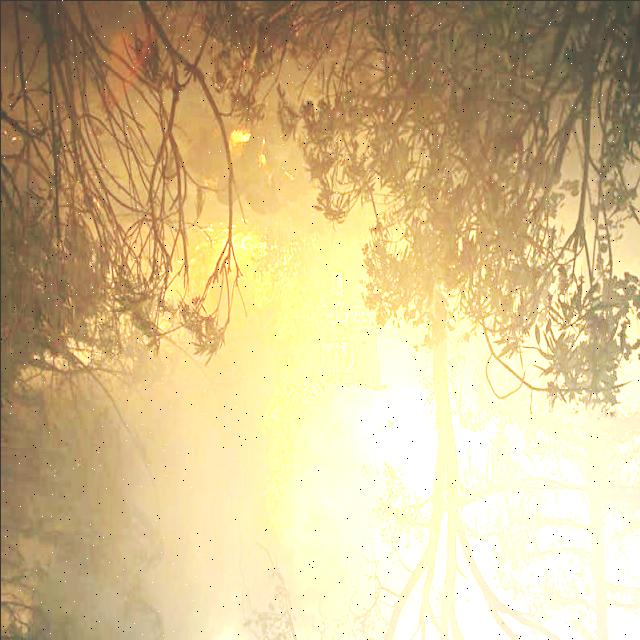api: (165, 218, 329, 373), (244, 380, 338, 595), (319, 301, 382, 335), (320, 340, 362, 379), (222, 125, 252, 157), (326, 267, 348, 302), (255, 147, 270, 174)
asap: (29, 319, 287, 640), (238, 383, 393, 640)
